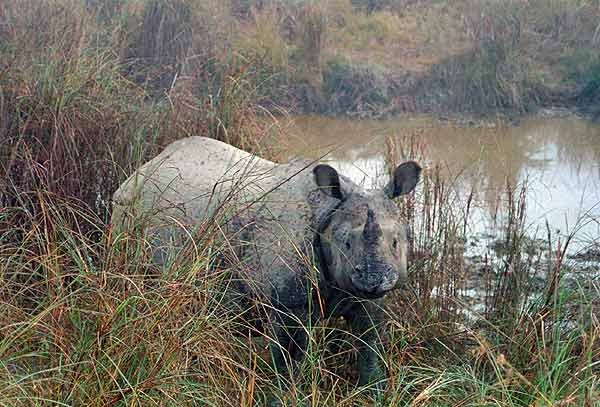rhino: (107, 133, 423, 403)
